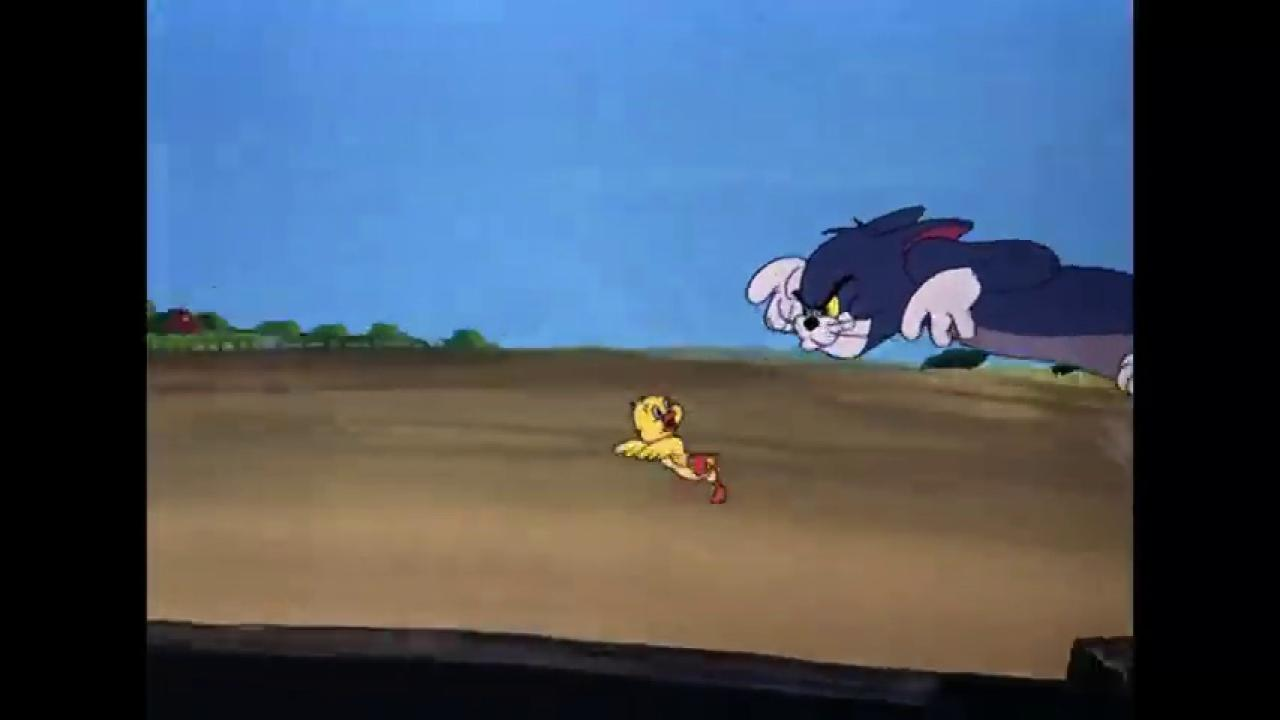Tom: (745, 200, 1134, 400)
